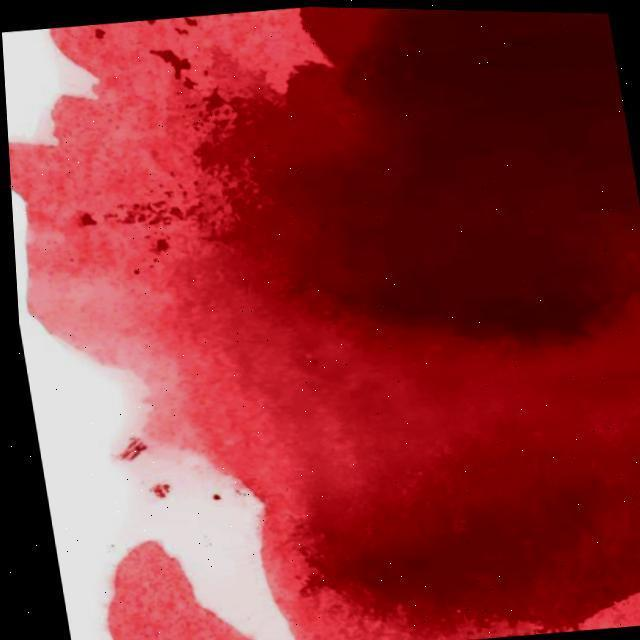knife: (211, 2, 630, 340), (257, 481, 640, 640), (101, 541, 255, 640), (63, 198, 202, 247), (134, 42, 202, 109), (119, 432, 170, 504)
